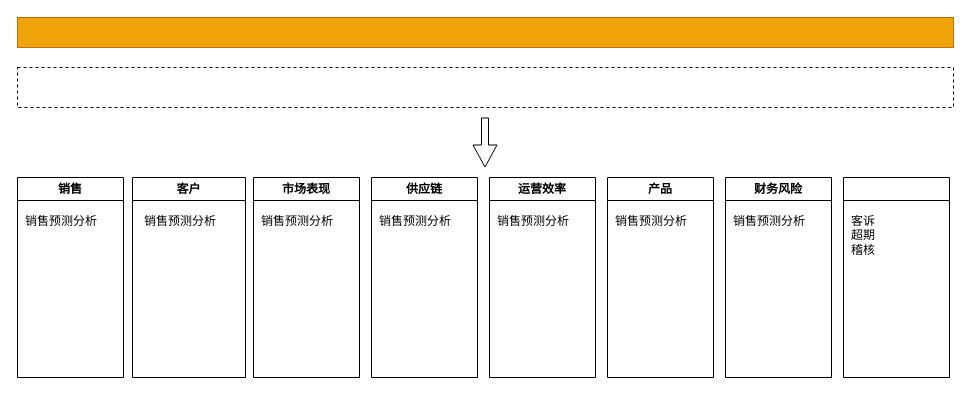
Image size: 971x395. Some labels were removed from this diagram. Here are the shapes that lost their labels. From the top down, the box of each, then its label:
(16, 16, 954, 48): 门店运营
(16, 66, 954, 108): 管理驾驶舱 ：业绩地图、关键业务指标、综合绩效分析、业绩预算执行监控、应收账龄和周转、供应链运营监控
(842, 176, 950, 378): 质量
